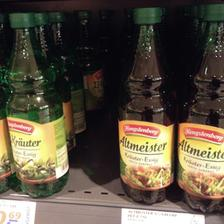Essig: (116, 5, 176, 203), (5, 10, 69, 194), (177, 4, 223, 212)
